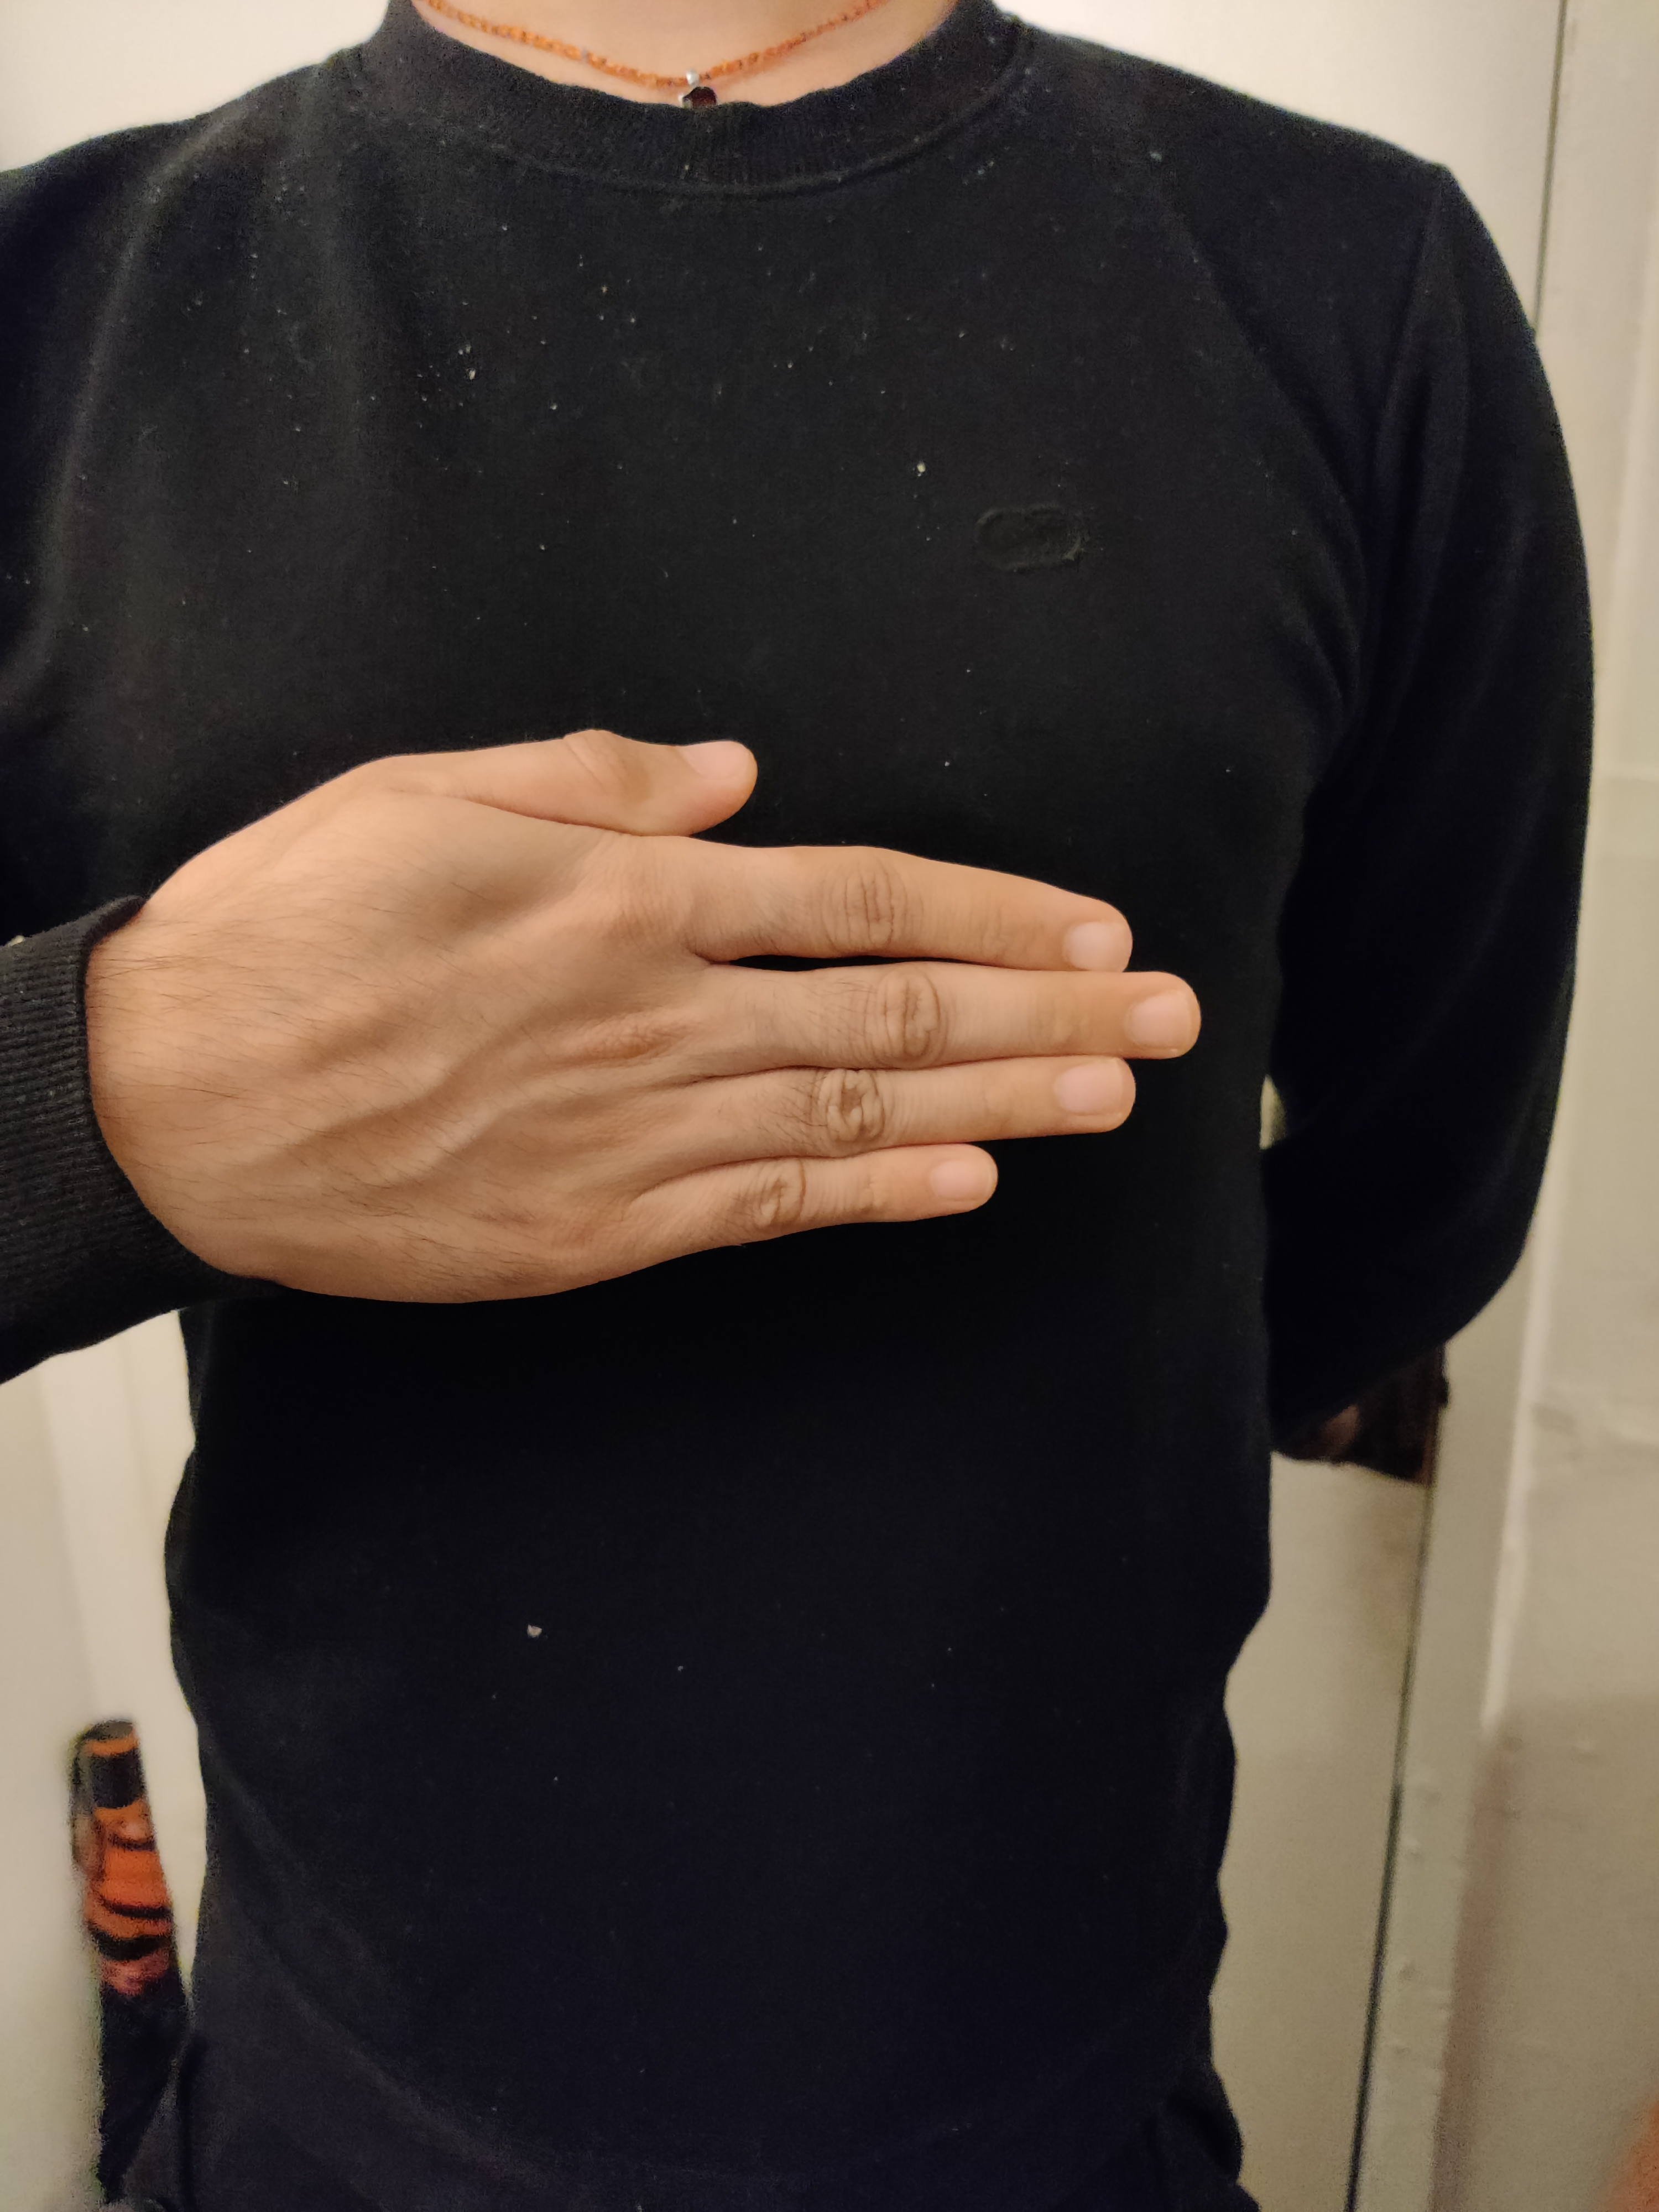left: (9, 557, 1321, 1435)
